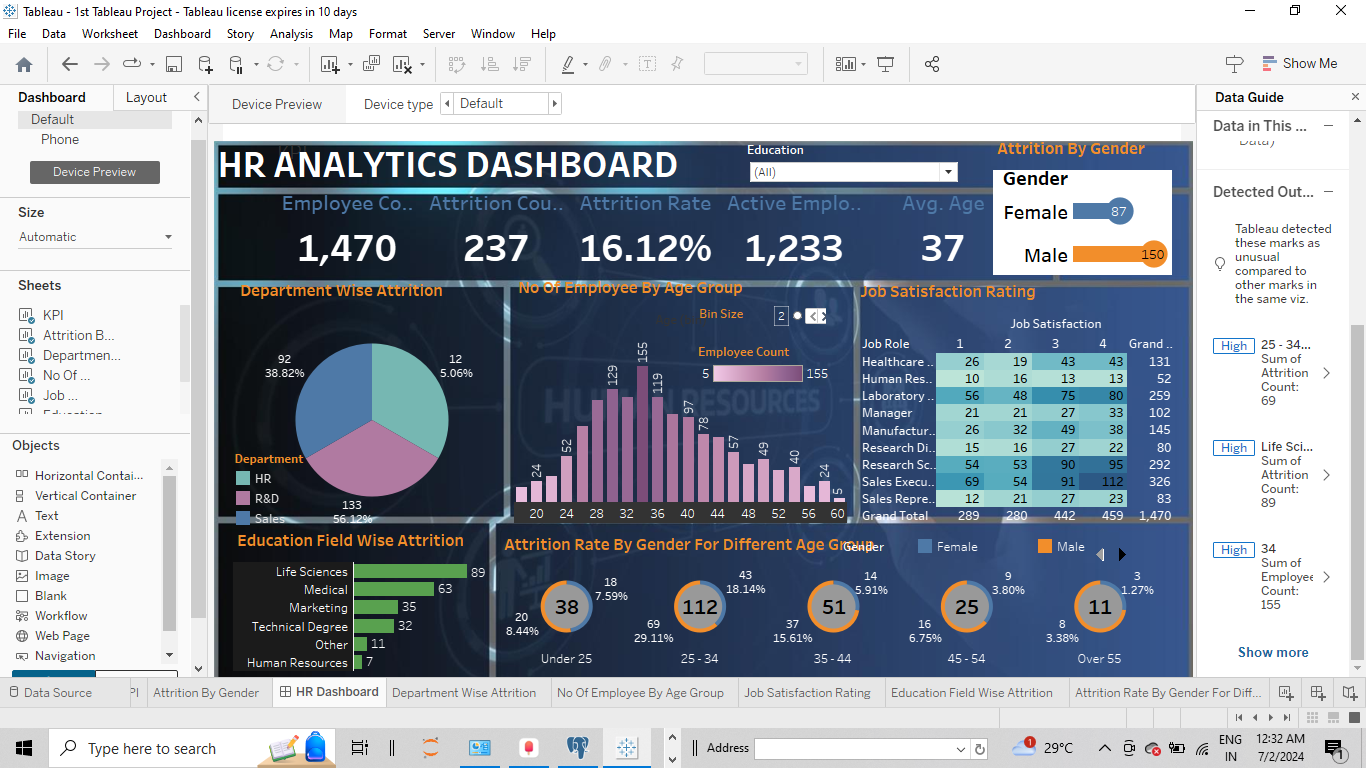

What the dashboard file says about the page in this screenshot:
{"tool":"tableau","page":{"name":"HR Dashboard","canvas":[1000,1000],"units":"permille","ordinal":0},"visuals":[{"type":"text","box":[8.5,9.3,446.8,83.6]},{"type":"filter","title":"Department Wise Attrition","param":"[federated.1qhijw71597jsr15u73p319234vu].[none:Education:nk]","box":[452.4,11.2,332.7,70.6]},{"type":"worksheet","title":"KPI","mark":"Automatic","box":[52.3,16.7,777.9,265.8]},{"type":"worksheet","title":"Attrition By Gender","mark":"Automatic","rows":["Gender"],"cols":["Calculation_799670442815057920","Calculation_799670442815057920"],"box":[804,16.7,186.6,263.9]},{"type":"worksheet","title":"No Of Employee By Age Group","mark":"Automatic","rows":["Employee Count"],"cols":["Age (bin)"],"box":[303.5,275.1,347.8,466.5]},{"type":"worksheet","title":"Department Wise Attrition","mark":"Pie","box":[13.2,280.7,283.7,470.3]},{"type":"worksheet","title":"Job Satisfaction Rating","mark":"Square","rows":["Job Role"],"cols":["Job Satisfaction"],"box":[660.7,282.5,332.7,461]},{"type":"parameter","param":"[Parameters].[Parameter 1]","box":[496.7,332.7,135.7,65.1]},{"type":"legend","title":"No Of Employee By Age Group","param":"[federated.1qhijw71597jsr15u73p319234vu].[sum:Employee Count:qk]","box":[495.8,407.1,140.4,76.2]},{"type":"legend","title":"Department Wise Attrition","param":"[federated.1qhijw71597jsr15u73p319234vu].[none:Department:nk]","box":[10.4,606,75.4,145]},{"type":"legend","title":"Attrition Rate By Gender For Different Age Group","param":"[federated.1qhijw71597jsr15u73p319234vu].[none:Gender:nk]","box":[647.5,765.8,304.4,66.9]}]}

Visuals, with their boxes on the dashboard's canvas, which has no fixed pixel size, in thousandths of its width and height (x1, y1, x2, y2). These are canvas units, not pixel positions in the 1366x768 screenshot, which may show the page scaled, cropped or inside an application window:
text: <region>8, 9, 455, 93</region>
"Department Wise Attrition" filter: <region>452, 11, 785, 82</region>
"KPI" worksheet: <region>52, 17, 830, 282</region>
"Attrition By Gender" worksheet: <region>804, 17, 991, 281</region>
"No Of Employee By Age Group" worksheet: <region>304, 275, 651, 742</region>
"Department Wise Attrition" worksheet (Pie marks): <region>13, 281, 297, 751</region>
"Job Satisfaction Rating" worksheet (Square marks): <region>661, 282, 993, 744</region>
parameter: <region>497, 333, 632, 398</region>
"No Of Employee By Age Group" legend: <region>496, 407, 636, 483</region>
"Department Wise Attrition" legend: <region>10, 606, 86, 751</region>
"Attrition Rate By Gender For Different Age Group" legend: <region>648, 766, 952, 833</region>
